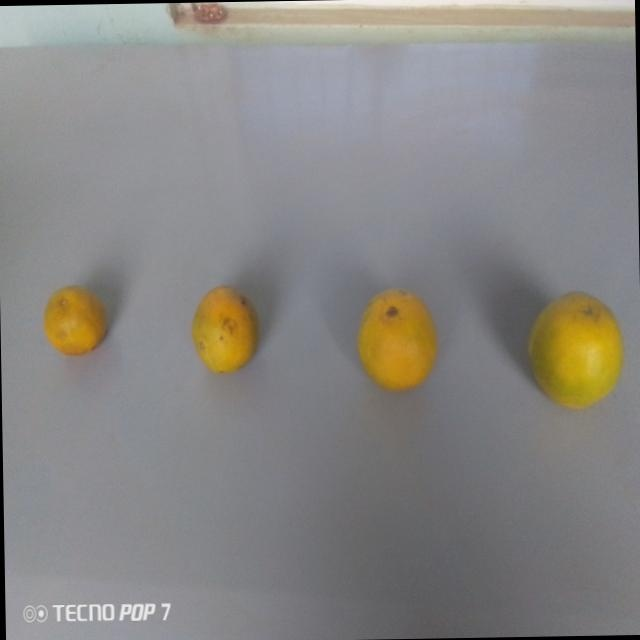agrume: (527, 286, 625, 417), (343, 284, 441, 399), (191, 272, 265, 383), (41, 275, 115, 364)
